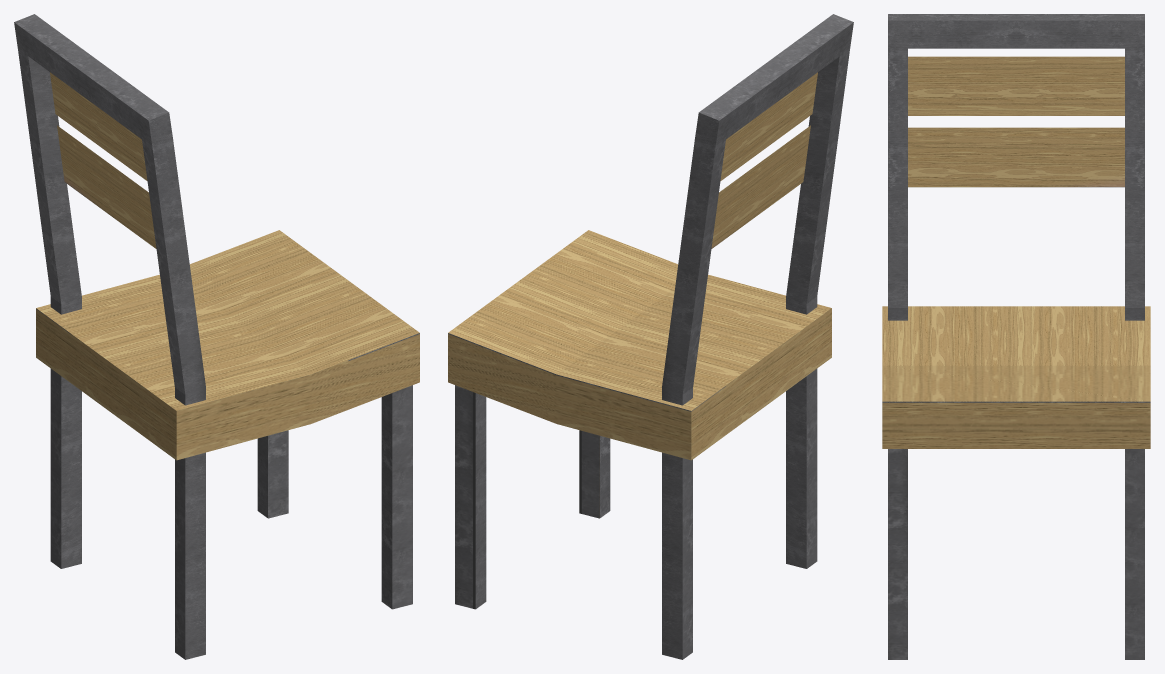
Rendered from chair 1.fbx.
The picture shows the model from 3 angles, left to right: view 1: azimuth 30°, elevation 25°; view 2: azimuth 150°, elevation 25°; view 3: azimuth 270°, elevation 25°; orthographic projection. The views are drawn at different scales.
Parts seen in each view (by area): view 1: Cube.002, Cube.001, Cube, Cube.003; view 2: Cube.002, Cube.001, Cube, Cube.003; view 3: Cube.002, Cube.003, Cube.001, Cube.
Boxes of the visible parts, x1,y1,x2,y2 form: Cube.002: (36,230,419,460); Cube.001: (14,14,205,659); Cube: (257,385,412,609); Cube.003: (50,72,156,248); Cube.002: (448,230,831,460); Cube.001: (662,14,853,659); Cube: (455,385,610,609); Cube.003: (711,72,817,248); Cube.002: (882,306,1150,448); Cube.003: (908,56,1124,187); Cube.001: (888,14,1144,320); Cube: (888,449,1144,659).
Bounding box in the file's own units: 55.12 × 108 × 50.
1 material, 1 textured.
